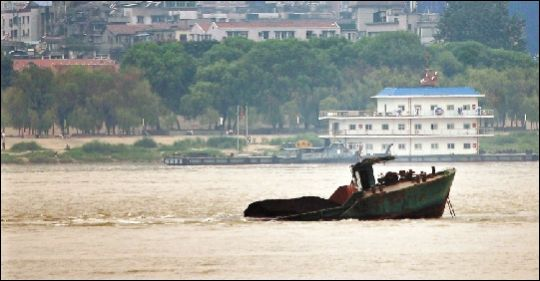otherboat: (222, 141, 461, 233)
